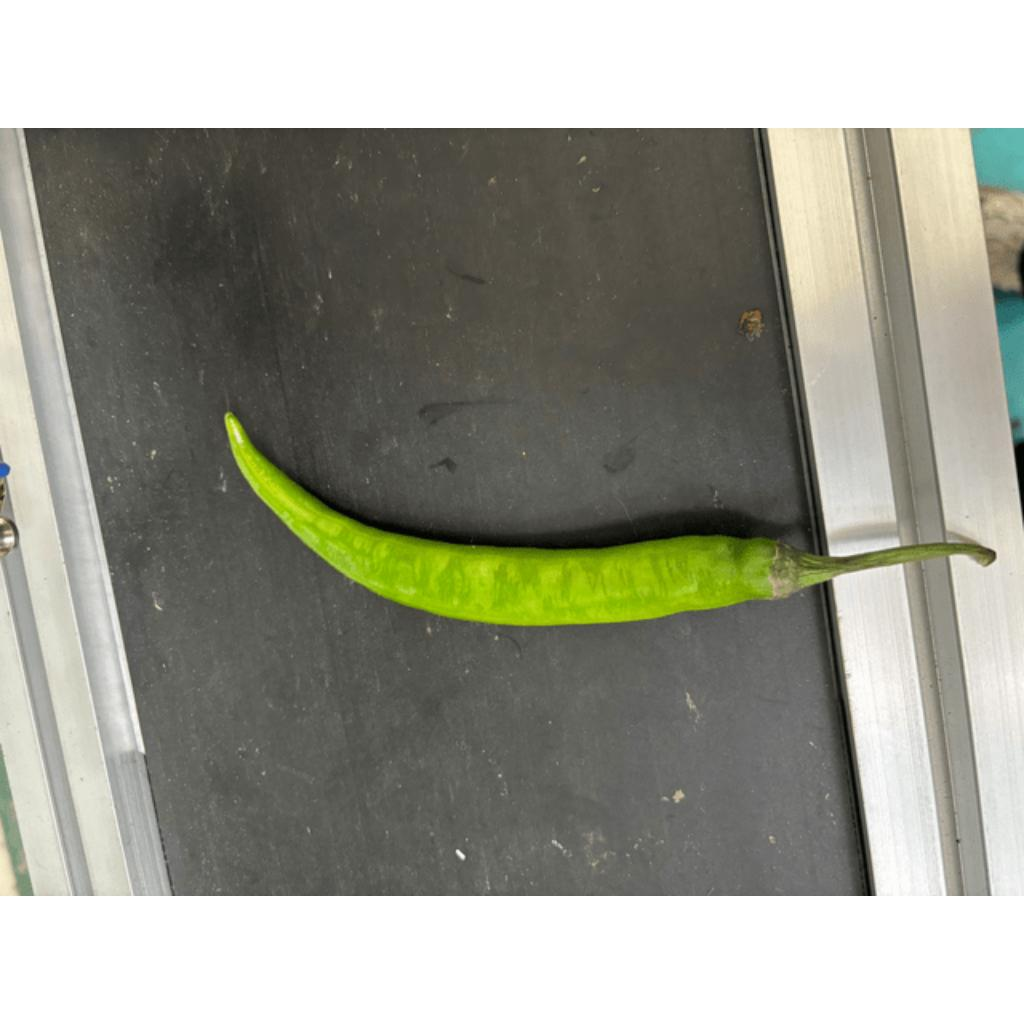chili: (219, 408, 804, 628)
